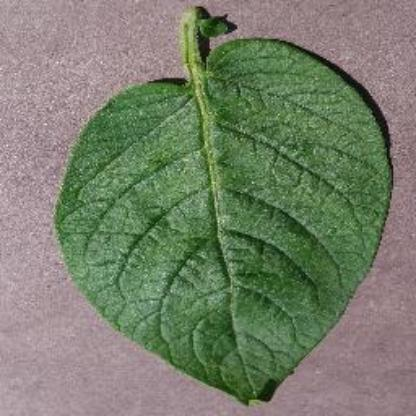Healthy-plant: (51, 23, 397, 407)
